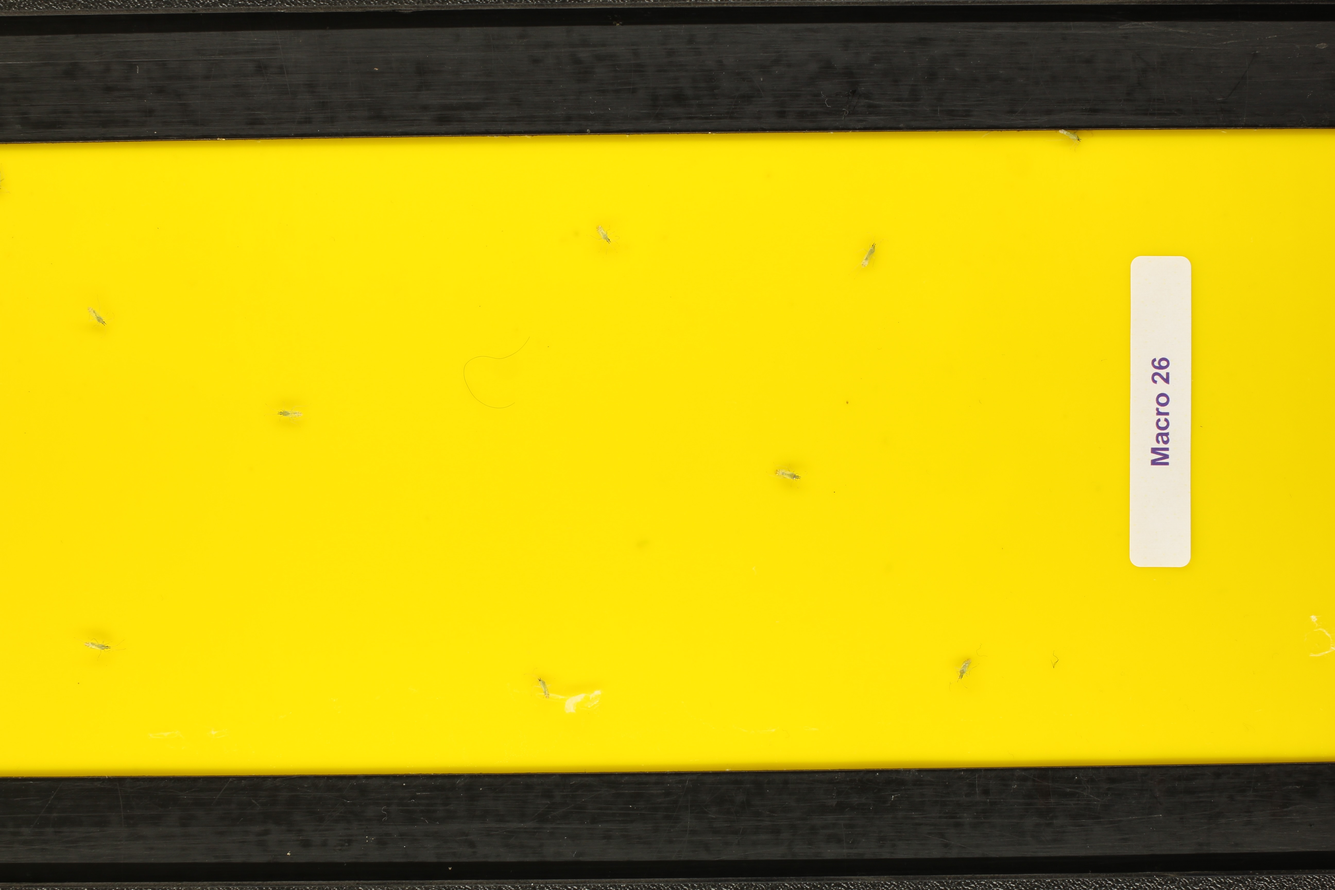MR: (255, 391, 313, 429), (70, 630, 132, 665), (945, 649, 984, 696), (762, 459, 816, 491), (852, 232, 888, 279), (584, 221, 627, 259), (521, 662, 557, 706), (1053, 125, 1097, 159), (81, 299, 118, 336)
